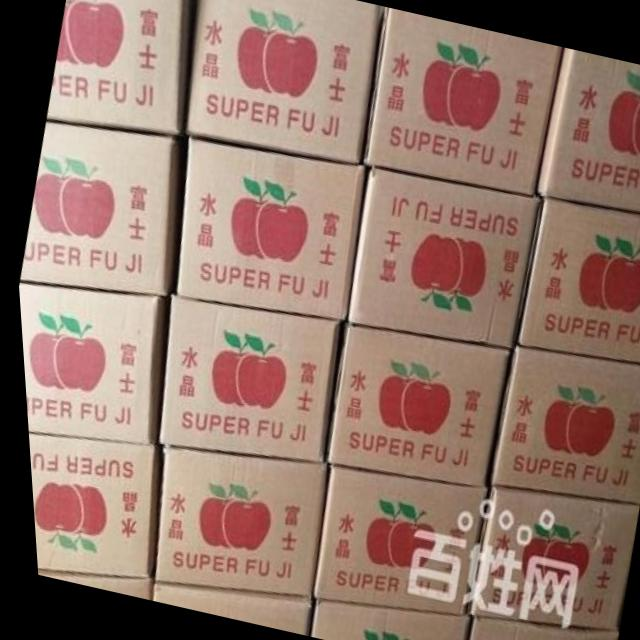box: (360, 8, 562, 194), (171, 136, 360, 320), (343, 168, 536, 346), (183, 0, 382, 163), (153, 297, 337, 463), (319, 324, 505, 488), (16, 122, 177, 296), (147, 448, 319, 600), (303, 467, 477, 615), (483, 346, 640, 504), (459, 489, 632, 632), (15, 282, 160, 445), (511, 195, 640, 362), (44, 0, 196, 135), (23, 434, 152, 577), (533, 47, 640, 213), (144, 582, 308, 636), (300, 601, 459, 640), (30, 567, 144, 600), (458, 617, 609, 640)
